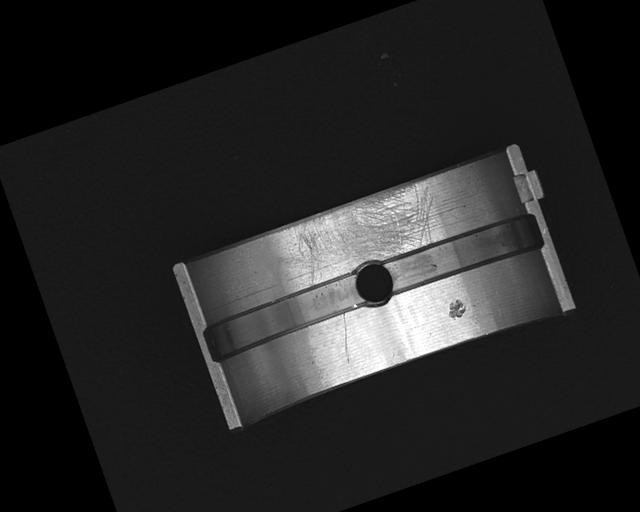bruise: (444, 296, 469, 322)
gap: (200, 271, 368, 362), (381, 209, 545, 297)
hole: (348, 256, 400, 311)
nick: (332, 312, 362, 363)
scratch: (272, 177, 447, 292)
